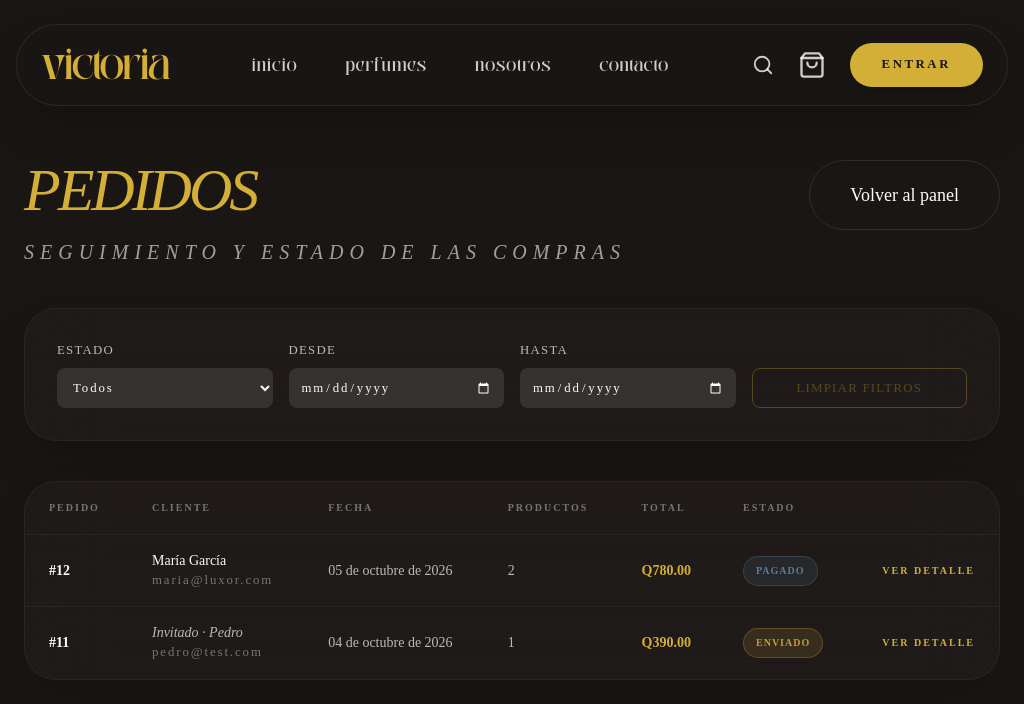
Test case: AdminOrdersPage › un pedido entregado no ofrece cambios de estado
Click the text "#12" at (52, 570), box [25,535,128,607]
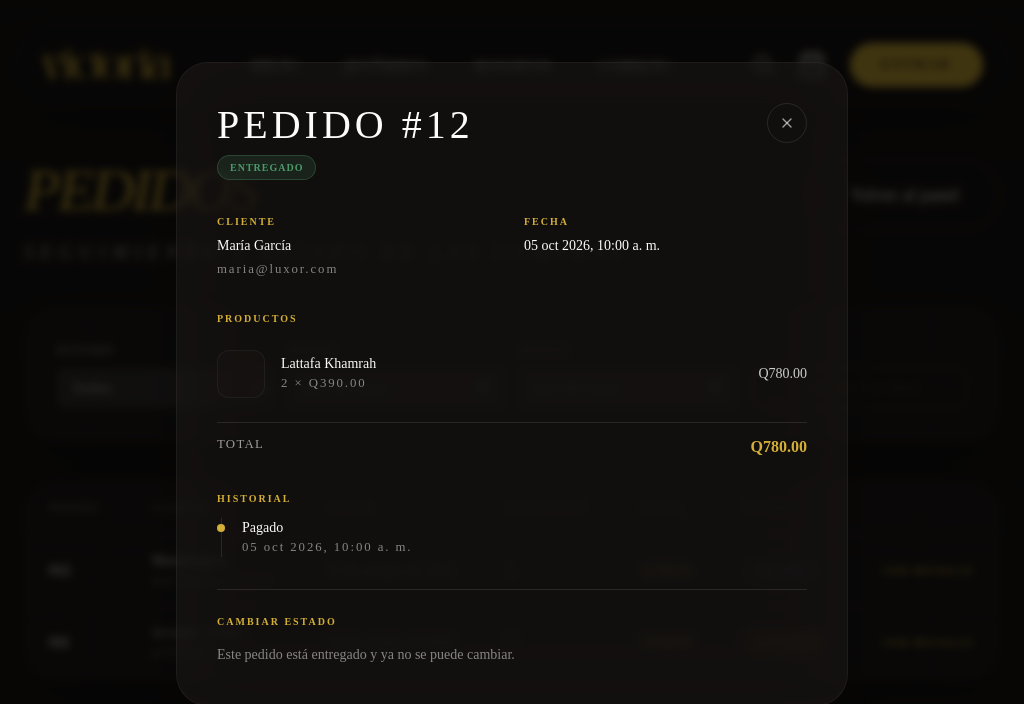
Now the text "Este pedido está entregado y ya no se puede cambiar." is shown, box [217,647,515,662]
